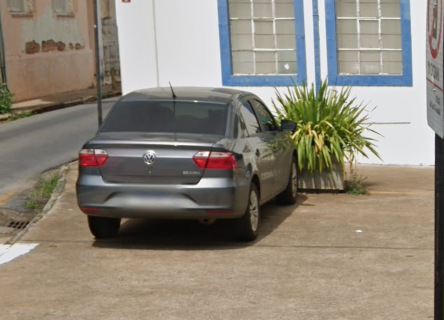car: (73, 79, 304, 249)
